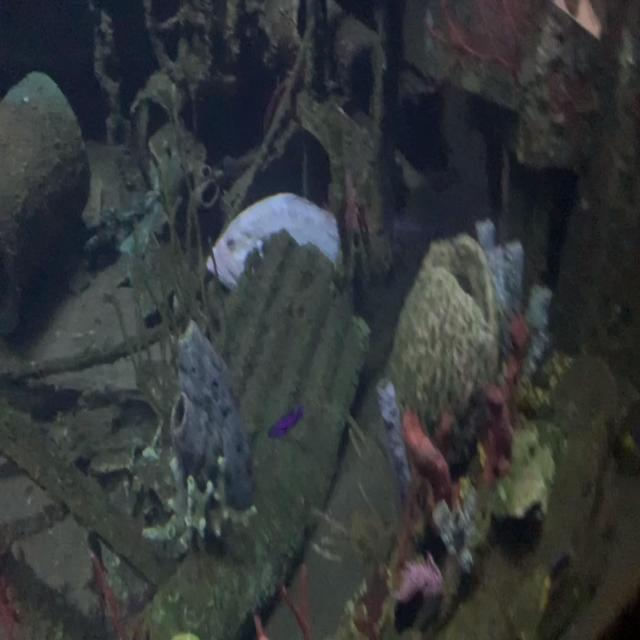fish: (200, 186, 346, 294), (410, 407, 450, 443)
